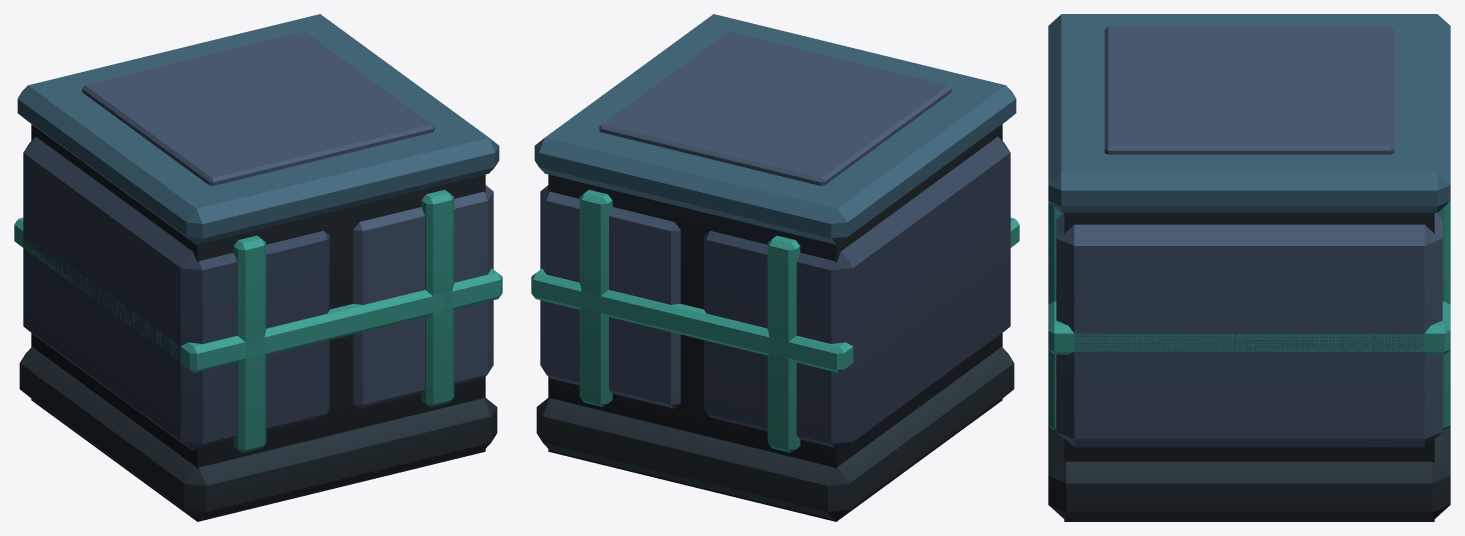
Rendered from tide-gate-wall.glb.
3 renders of one model, left to right at view 1: azimuth 30°, elevation 25°; view 2: azimuth 150°, elevation 25°; view 3: azimuth 270°, elevation 25°, orthographic. The views are drawn at different scales.
Visible parts, largest first — view 1: mesh_tide_gate_wall; view 2: mesh_tide_gate_wall; view 3: mesh_tide_gate_wall.
Boxes of the visible parts, left/top/right/bottom form: mesh_tide_gate_wall: left=14, top=14, right=502, bottom=521; mesh_tide_gate_wall: left=531, top=14, right=1019, bottom=521; mesh_tide_gate_wall: left=1048, top=14, right=1450, bottom=521.
Size of the model in its own units: 1 by 0.98 by 1.
